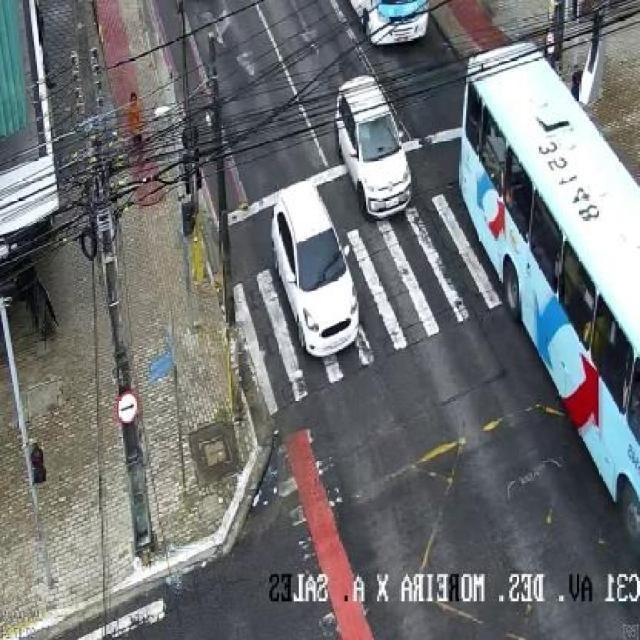Bus: (463, 49, 640, 550)
Car: (270, 184, 382, 360), (335, 78, 424, 223), (346, 0, 444, 40)
